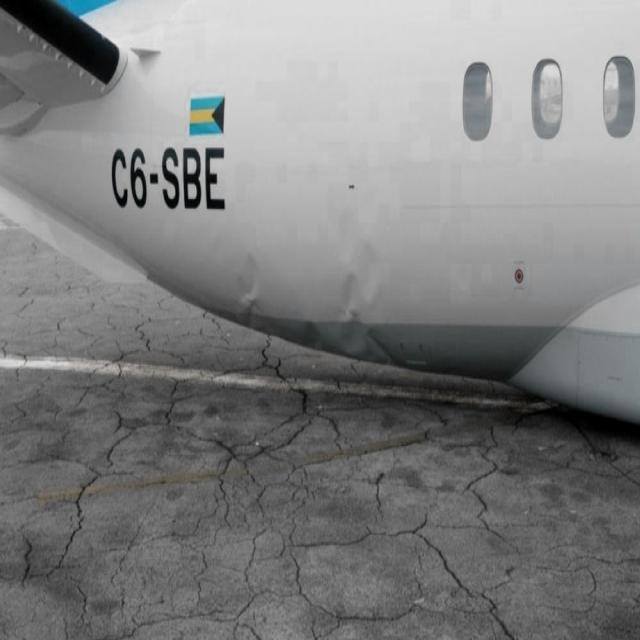Dent: (229, 199, 396, 365)
